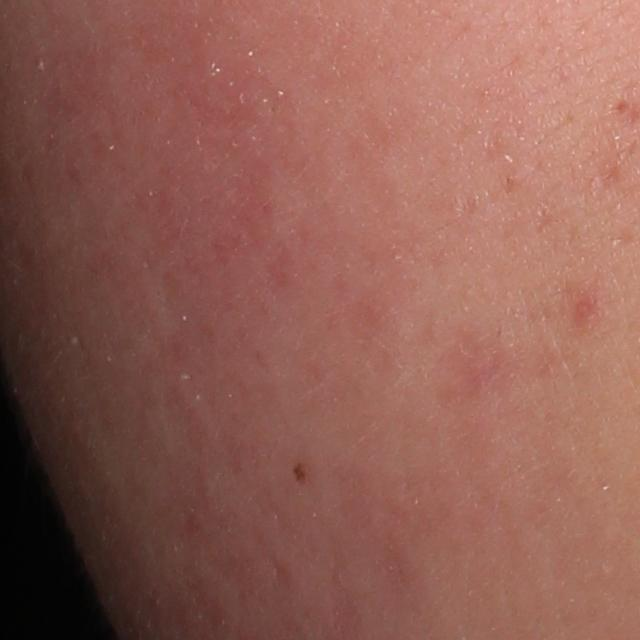nevus: (291, 456, 309, 489)
